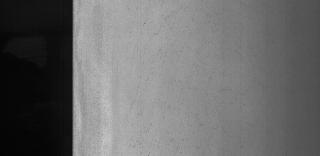silk spot: (127, 7, 189, 134)
